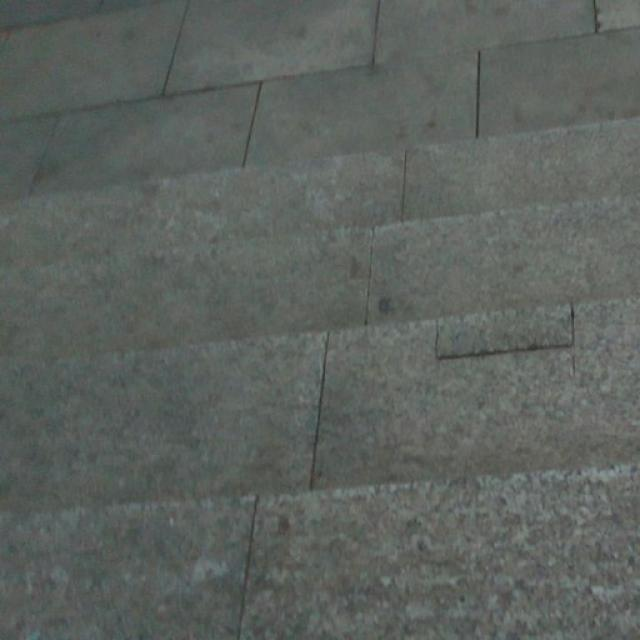stair: (8, 157, 640, 601)
